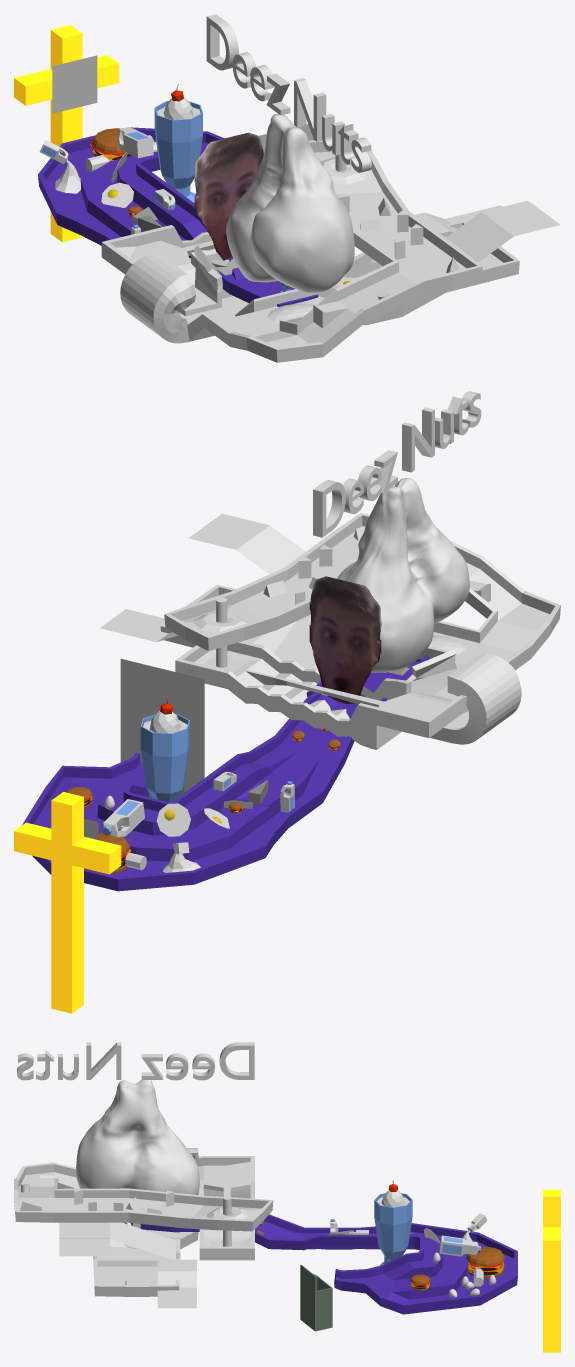
File: deeznutsTrack.fbx
The picture shows the model from 3 angles, top to bottom: view 1: azimuth 30°, elevation 25°; view 2: azimuth 150°, elevation 25°; view 3: azimuth 270°, elevation 25°; orthographic projection. The views are drawn at different scales.
Visible parts, largest first — view 1: DeezNutzTrack, Nuts, JackTrack, DeezNutsText, Plane, AltTrackSegment, DeezNutzTrack.001, Cross, holem1, Shake.001, Plane.002, TriangularObby (+6 smaller); view 2: JackTrack, DeezNutzTrack, AltTrackSegment, Nuts, Cross, Plane, DeezNutsText, holem1, Plane.001, DeezNutzTrack.001, Shake.001, TriangularObby (+2 smaller); view 3: DeezNutzTrack, JackTrack, Nuts, holem1, DeezNutsText, AltTrackSegment, Cross, Shake.001, Trashbin, DoubleBurgerObby.005, TriangularObby, Milk.004.
Part boxes in pixels (x1,y1,x2,y2): DeezNutzTrack: (180, 138, 519, 362); Nuts: (226, 113, 354, 292); JackTrack: (38, 127, 318, 306); DeezNutsText: (206, 14, 371, 172); Plane: (194, 132, 263, 260); AltTrackSegment: (101, 225, 237, 316); DeezNutzTrack.001: (120, 251, 195, 343); Cross: (14, 25, 119, 242); holem1: (343, 200, 560, 278); Shake.001: (154, 84, 202, 202); Plane.002: (52, 55, 97, 113); TriangularObby: (338, 193, 458, 273); JackTrack: (22, 655, 429, 891); DeezNutzTrack: (160, 513, 560, 742); AltTrackSegment: (175, 641, 467, 749); Nuts: (337, 478, 469, 672); Cross: (14, 792, 121, 1013); Plane: (309, 576, 381, 703); DeezNutsText: (313, 391, 481, 537); holem1: (100, 513, 317, 669); Plane.001: (120, 659, 204, 792); DeezNutzTrack.001: (447, 654, 521, 744); Shake.001: (140, 697, 189, 801); TriangularObby: (263, 527, 365, 604); DeezNutzTrack: (14, 1162, 273, 1296); JackTrack: (130, 1214, 517, 1314); Nuts: (76, 1080, 199, 1194); holem1: (59, 1222, 196, 1308); DeezNutsText: (17, 1042, 254, 1080); AltTrackSegment: (197, 1156, 254, 1260); Cross: (543, 1189, 560, 1352); Shake.001: (374, 1180, 412, 1265); Trashbin: (300, 1265, 332, 1331); DoubleBurgerObby.005: (466, 1247, 504, 1278); TriangularObby: (20, 1188, 174, 1213); Milk.004: (439, 1235, 481, 1256).
Bounding box in the file's own units: 8576 × 8085 × 13995.
